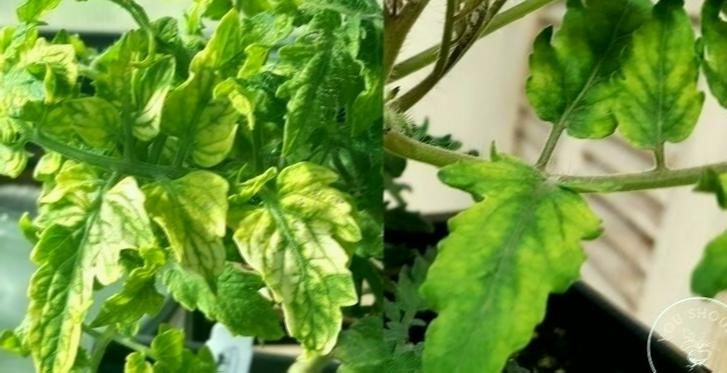Tomato leaf yellow virus: (403, 143, 612, 373), (17, 161, 159, 373), (236, 165, 358, 365), (525, 0, 662, 158), (139, 175, 250, 314), (614, 0, 701, 156), (167, 22, 249, 186), (68, 42, 173, 161), (121, 331, 229, 373)
